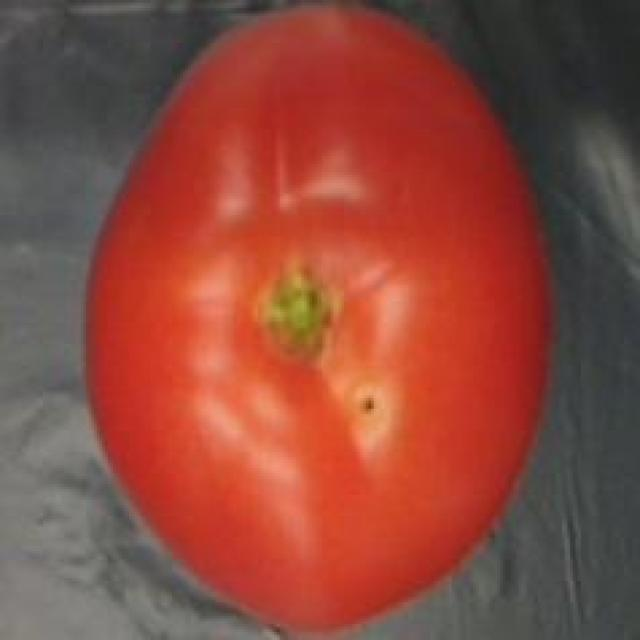ripe tomato: (67, 0, 570, 637)
